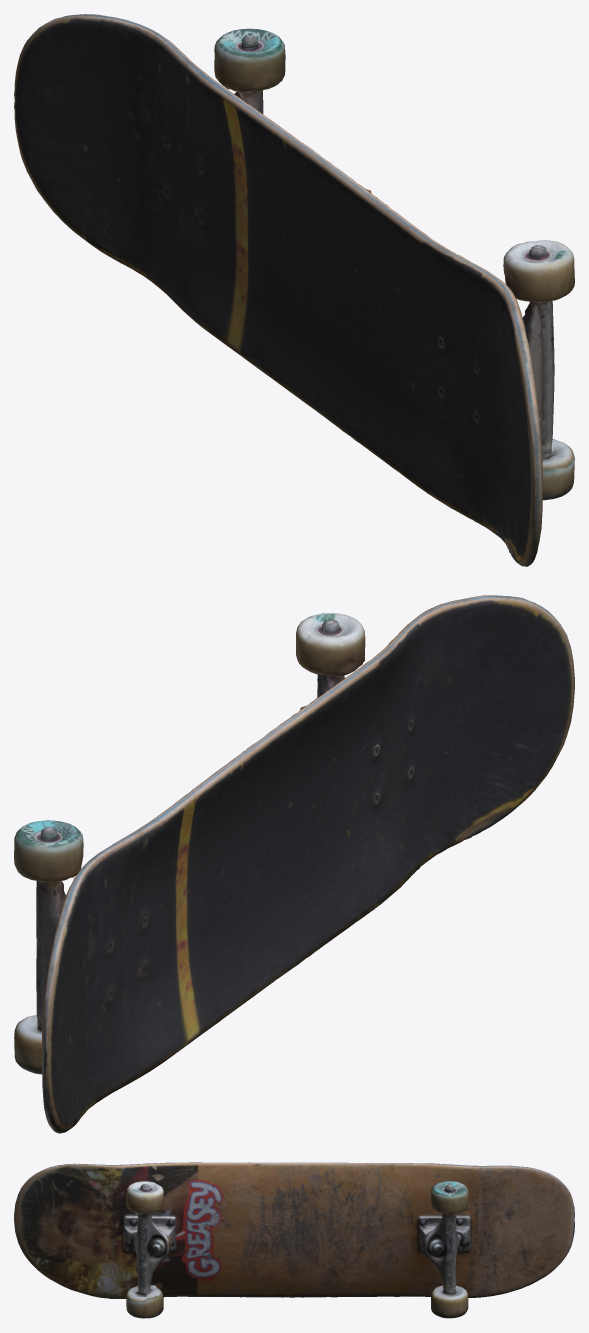
The picture shows the model from 3 angles, top to bottom: view 1: azimuth 30°, elevation 25°; view 2: azimuth 150°, elevation 25°; view 3: azimuth 270°, elevation 25°; orthographic projection. The views are drawn at different scales.
Visible parts, largest first — view 1: Skateboard_05; view 2: Skateboard_05; view 3: Skateboard_05.
Boxes of the visible parts, box(x1,y1,x2,y2) form: Skateboard_05: box(14, 14, 574, 566); Skateboard_05: box(14, 595, 574, 1133); Skateboard_05: box(14, 1162, 574, 1318).
Bounding box in the file's own units: 0.3443 × 0.5292 × 2.
1 material, 1 textured.
